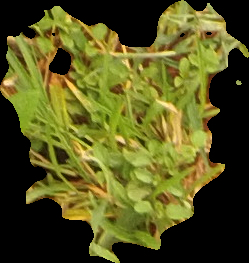grass: (1, 1, 248, 261)
